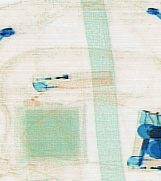lighter: (28, 68, 112, 92), (124, 153, 160, 170)
